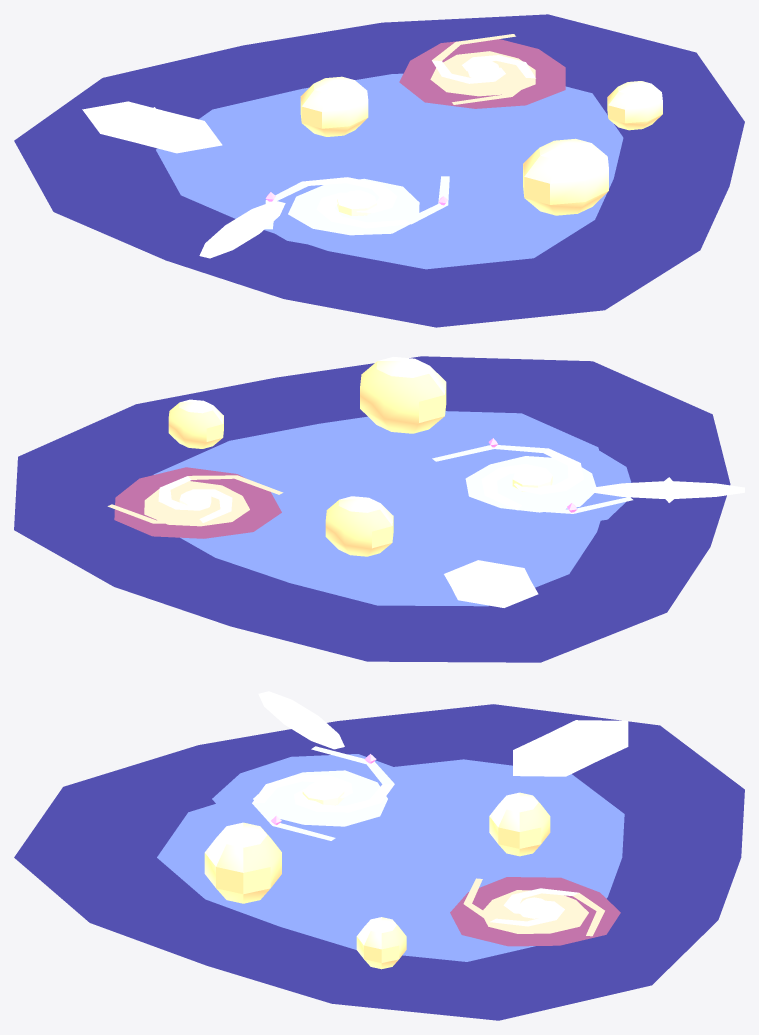
The model's file is galaxy_group.glb.
3 renders of one model, top to bottom at view 1: azimuth 30°, elevation 25°; view 2: azimuth 150°, elevation 25°; view 3: azimuth 270°, elevation 25°, orthographic.
Visible parts, largest first — view 1: body; view 2: body; view 3: body.
Boxes of the visible parts, x1=… form: body: x1=14, y1=14, x2=744, y2=327; body: x1=14, y1=356, x2=744, y2=662; body: x1=14, y1=691, x2=744, y2=1020.
Size of the model in its own units: 206 by 21 by 201.
